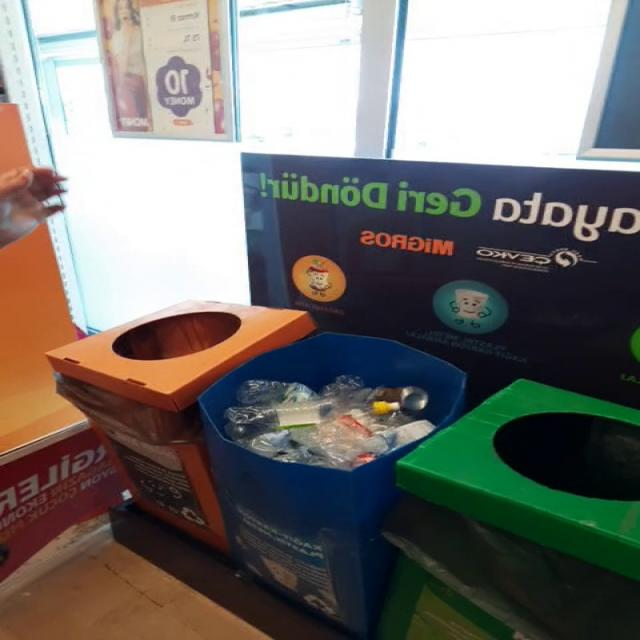bin: (45, 301, 465, 640), (397, 380, 640, 582)
